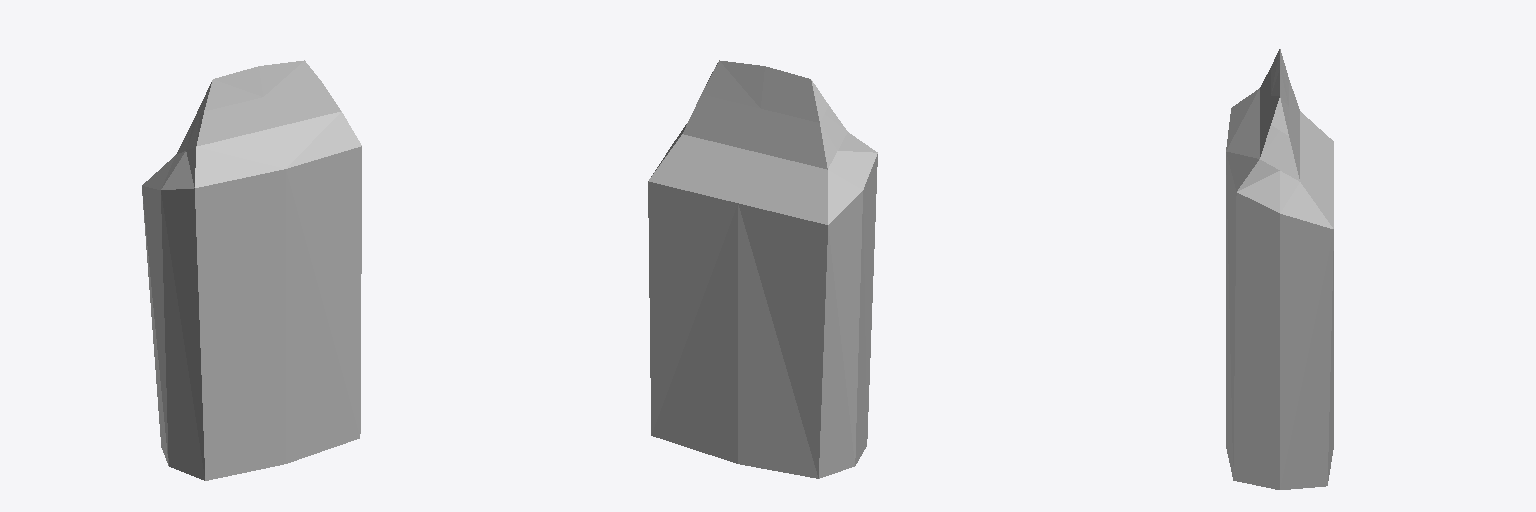
Rendered from GrillCoalPack01.obj.
3 views of the same model, side by side, from view 1: azimuth 30°, elevation 25°; view 2: azimuth 150°, elevation 25°; view 3: azimuth 270°, elevation 25° (orthographic).
Visible parts, largest first — view 1: GrillCoalPack01; view 2: GrillCoalPack01; view 3: GrillCoalPack01.
Boxes of the visible parts, <box> form: GrillCoalPack01: <box>142,60,361,480</box>; GrillCoalPack01: <box>648,60,877,478</box>; GrillCoalPack01: <box>1226,49,1333,489</box>.
Size of the model in its own units: 0.6178 by 1.17 by 0.3037.